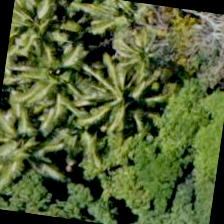Kelapa_Sawit: (30, 84, 132, 186), (72, 60, 174, 162), (0, 33, 95, 135), (0, 91, 70, 191), (70, 0, 168, 66), (6, 0, 95, 72)
